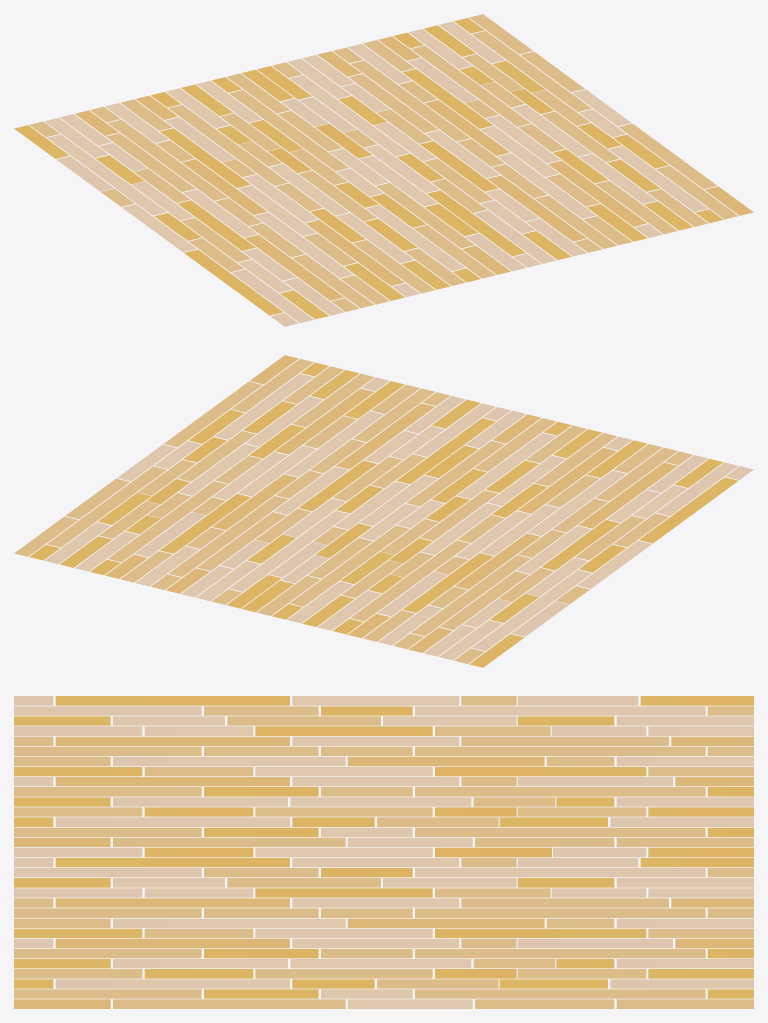
Rendered from floor_011.glb.
The picture shows the model from 3 angles, top to bottom: view 1: azimuth 30°, elevation 25°; view 2: azimuth 150°, elevation 25°; view 3: azimuth 270°, elevation 25°; orthographic projection. The views are drawn at different scales.
Parts seen in each view (by area): view 1: floor_011; view 2: floor_011; view 3: floor_011.
Boxes of the visible parts, x1=… form: floor_011: x1=14, y1=14, x2=753, y2=326; floor_011: x1=14, y1=355, x2=753, y2=667; floor_011: x1=14, y1=696, x2=753, y2=1008.
Size of the model in its own units: 4 by 0 by 4.
Materials: 1 (1 with a texture image).
